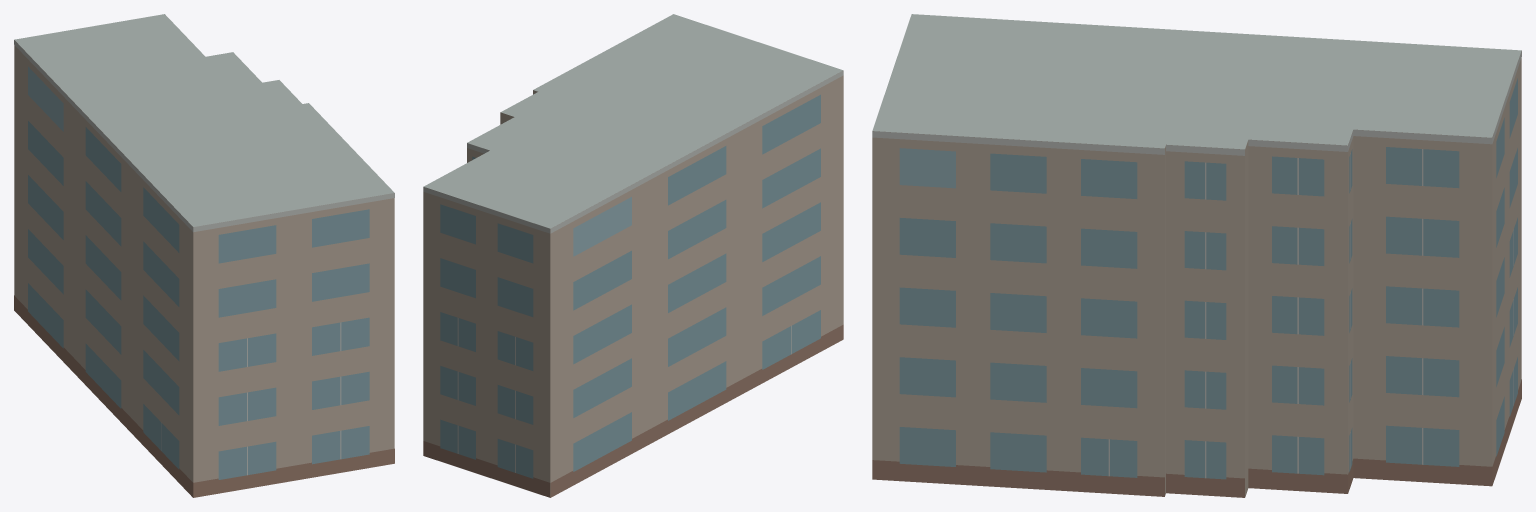
Rendered from survey-upis-32620165.glb.
The picture shows the model from 3 angles, left to right: view 1: azimuth 30°, elevation 25°; view 2: azimuth 150°, elevation 25°; view 3: azimuth 270°, elevation 25°; orthographic projection. The views are drawn at different scales.
Visible parts, largest first — view 1: survey-upis-32620165.tmp; view 2: survey-upis-32620165.tmp; view 3: survey-upis-32620165.tmp.
Boxes of the visible parts, x1,y1,x2,y2 form: survey-upis-32620165.tmp: (14,14,394,497); survey-upis-32620165.tmp: (423,14,843,497); survey-upis-32620165.tmp: (872,14,1521,497).
Size of the model in its own units: 10.89 by 13.05 by 22.05.
